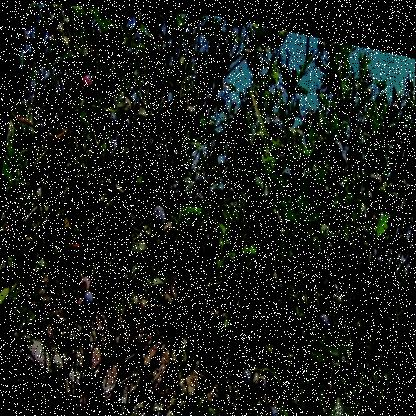intermediate: (79, 73, 94, 93)
mature: (328, 134, 350, 164), (107, 110, 132, 135), (317, 305, 335, 332), (149, 203, 165, 230), (267, 112, 282, 134), (83, 287, 96, 308), (242, 363, 254, 381)
young: (159, 217, 182, 265), (50, 21, 72, 55), (26, 4, 43, 34), (179, 92, 197, 118), (251, 367, 268, 394), (332, 279, 346, 300), (81, 273, 95, 289)
